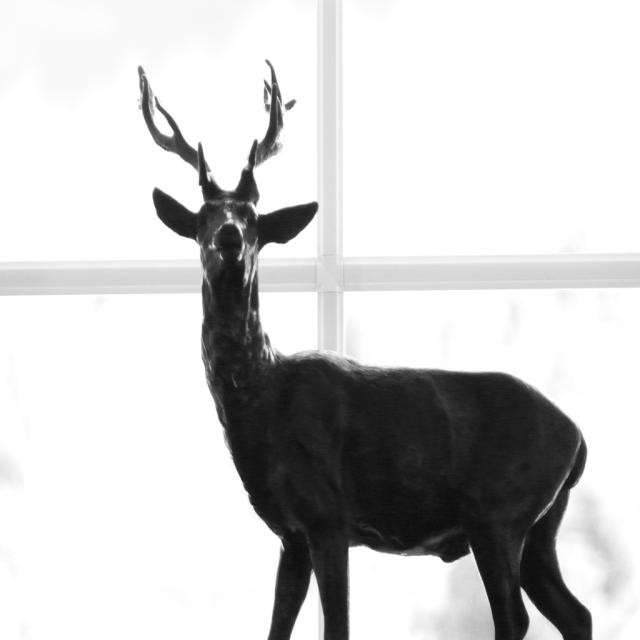Deer: (142, 62, 591, 639)
